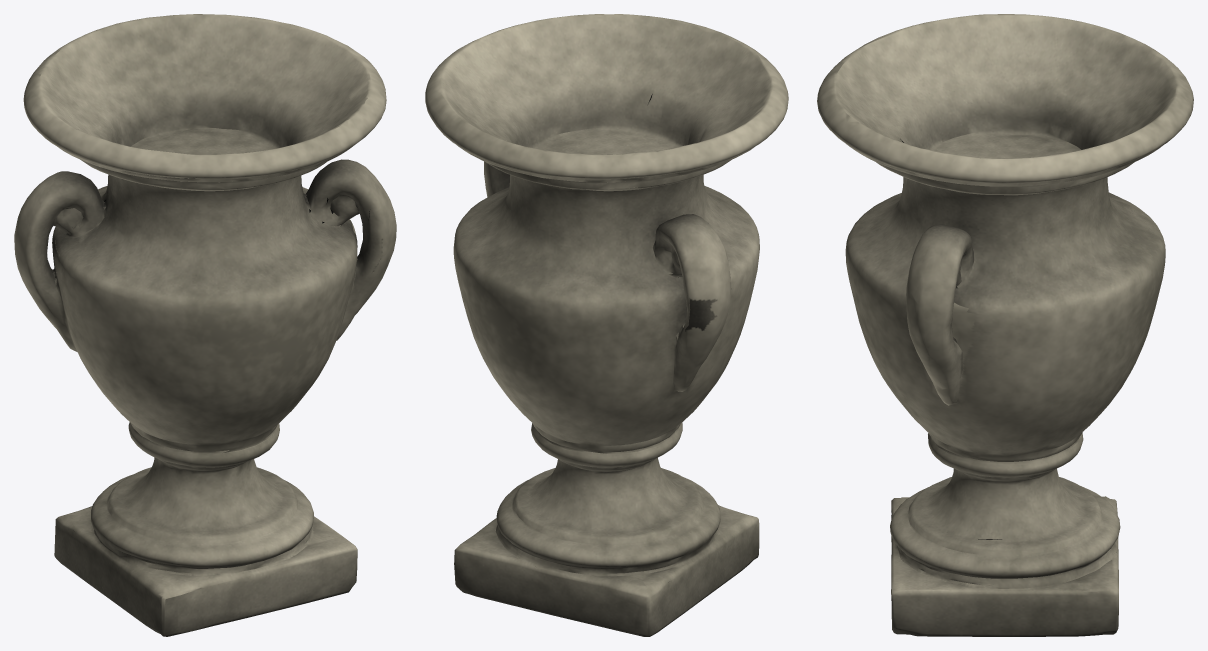
Rendered from tall-urn-v002.glb.
The picture shows the model from 3 angles, left to right: view 1: azimuth 30°, elevation 25°; view 2: azimuth 150°, elevation 25°; view 3: azimuth 270°, elevation 25°; orthographic projection. The views are drawn at different scales.
Visible parts, largest first — view 1: tall-urn; view 2: tall-urn; view 3: tall-urn.
Boxes of the visible parts, x1,y1,x2,y2 form: tall-urn: (14,14,396,636); tall-urn: (425,14,788,636); tall-urn: (817,14,1193,636).
Bounding box in the file's own units: 0.6062 × 0.9002 × 0.6102.
1 material, 1 textured.
